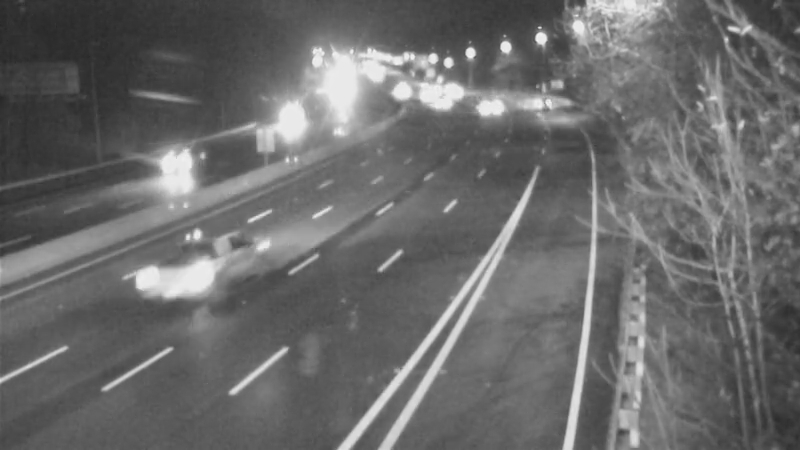vehicle: (128, 242, 208, 322), (138, 118, 218, 198), (520, 85, 570, 135), (418, 75, 468, 125), (462, 88, 512, 138), (262, 99, 312, 149)
